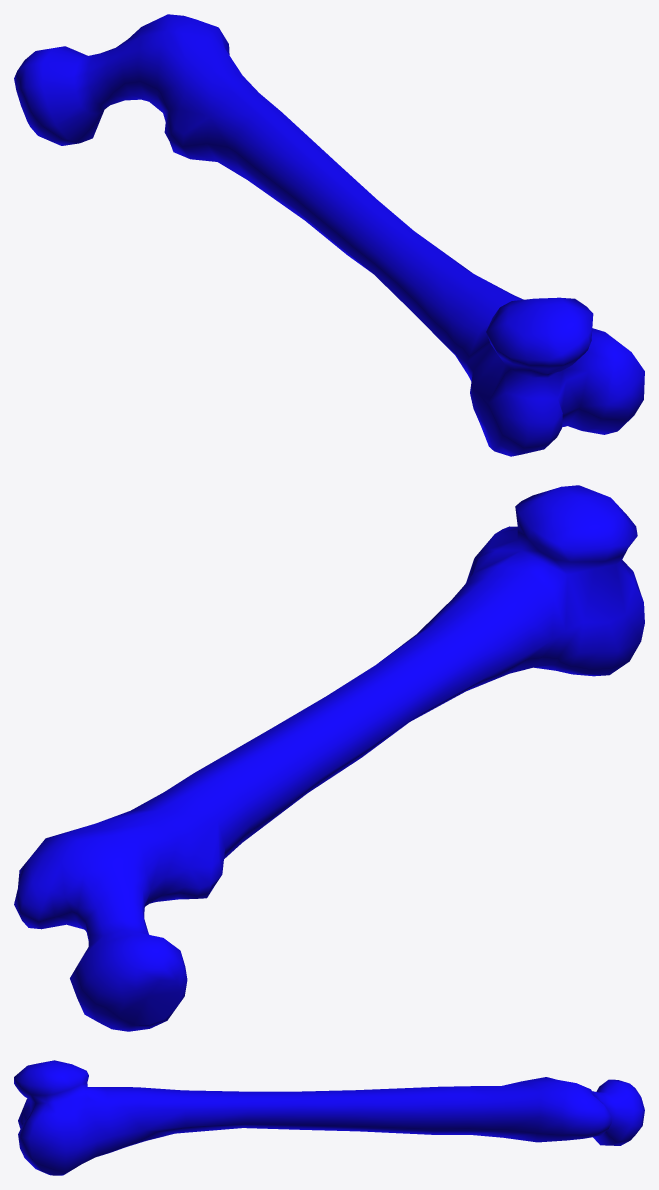
Rendered from SM_L_Femur.FBX.
3 renders of one model, top to bottom at view 1: azimuth 30°, elevation 25°; view 2: azimuth 150°, elevation 25°; view 3: azimuth 270°, elevation 25°, orthographic. The views are drawn at different scales.
Visible parts, largest first — view 1: L_Femur; view 2: L_Femur; view 3: L_Femur.
Boxes of the visible parts, bbox=[...] form: L_Femur: bbox=[14, 14, 644, 456]; L_Femur: bbox=[14, 485, 644, 1031]; L_Femur: bbox=[14, 1060, 644, 1175].
Bounding box in the file's own units: 9.96 × 7.98 × 48.57.
